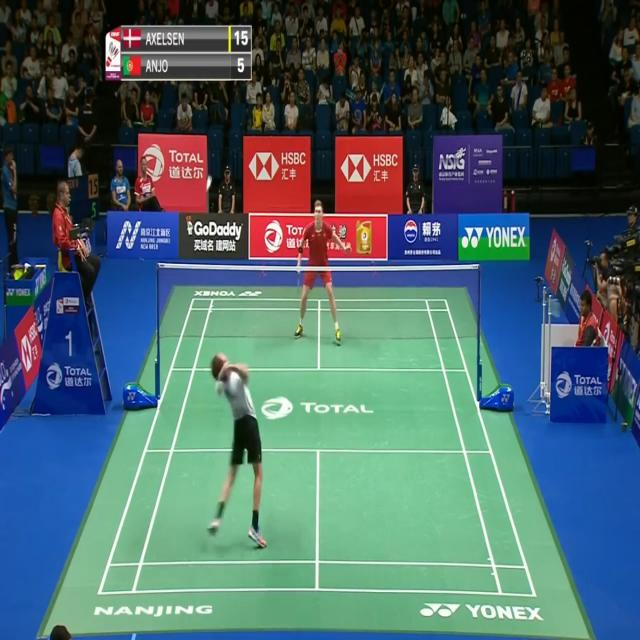Player1: (200, 348, 273, 558)
Player2: (291, 195, 355, 353)
